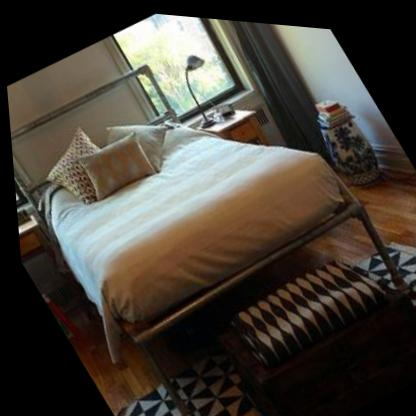Bed: (0, 0, 416, 416)
Window: (105, 7, 247, 133)
